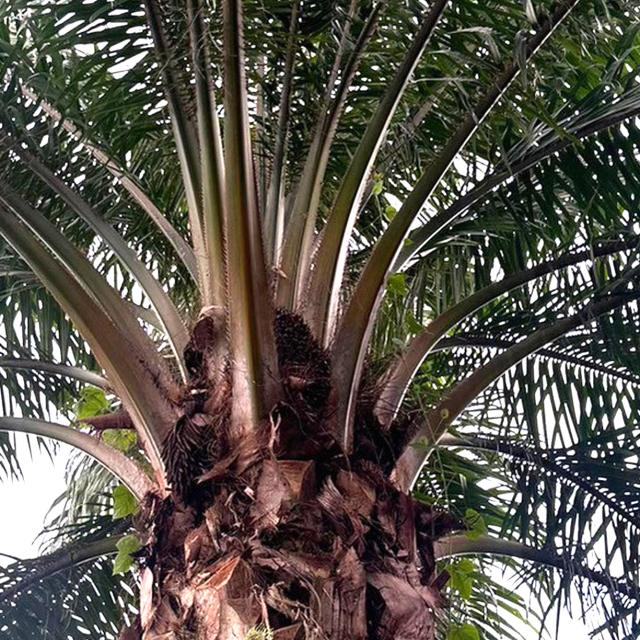ripe: (169, 291, 345, 428)
